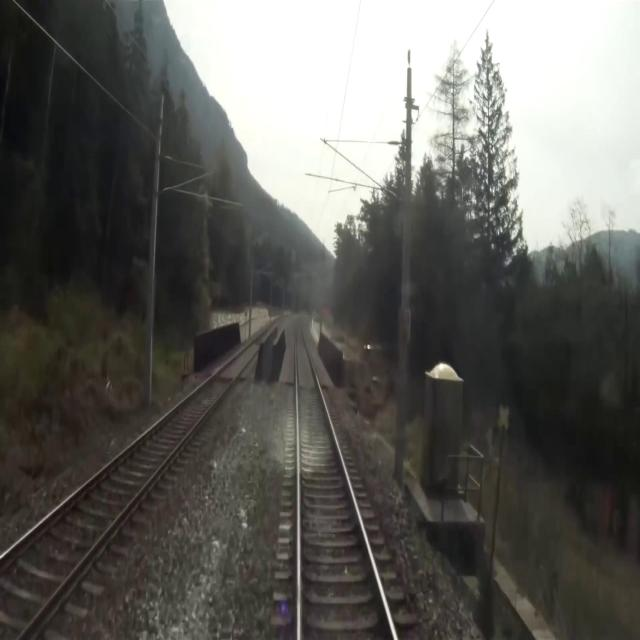rail-track: (0, 327, 272, 639), (295, 312, 394, 639)
